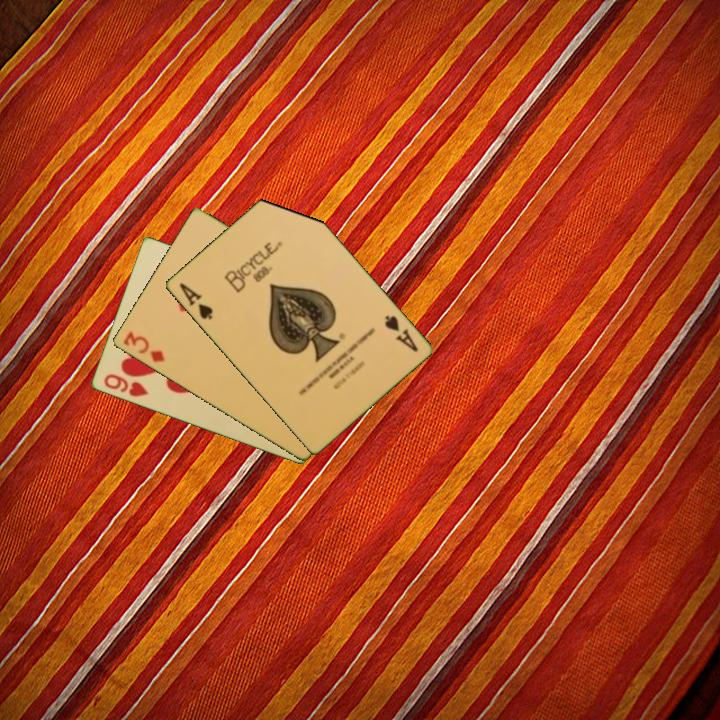3d: (119, 328, 168, 365)
9h: (100, 370, 151, 400)
As: (175, 279, 215, 323), (381, 312, 420, 355)
